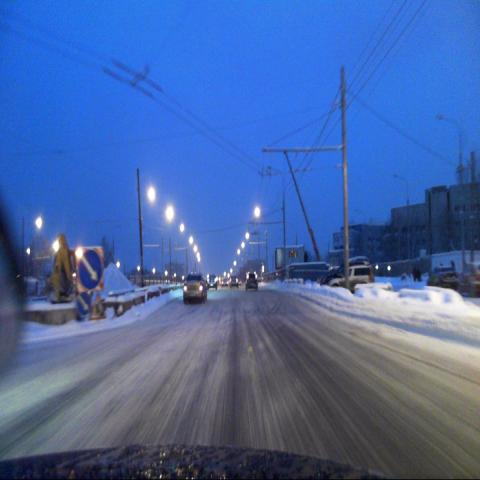4_2_1: (78, 246, 103, 289), (77, 291, 91, 315)
